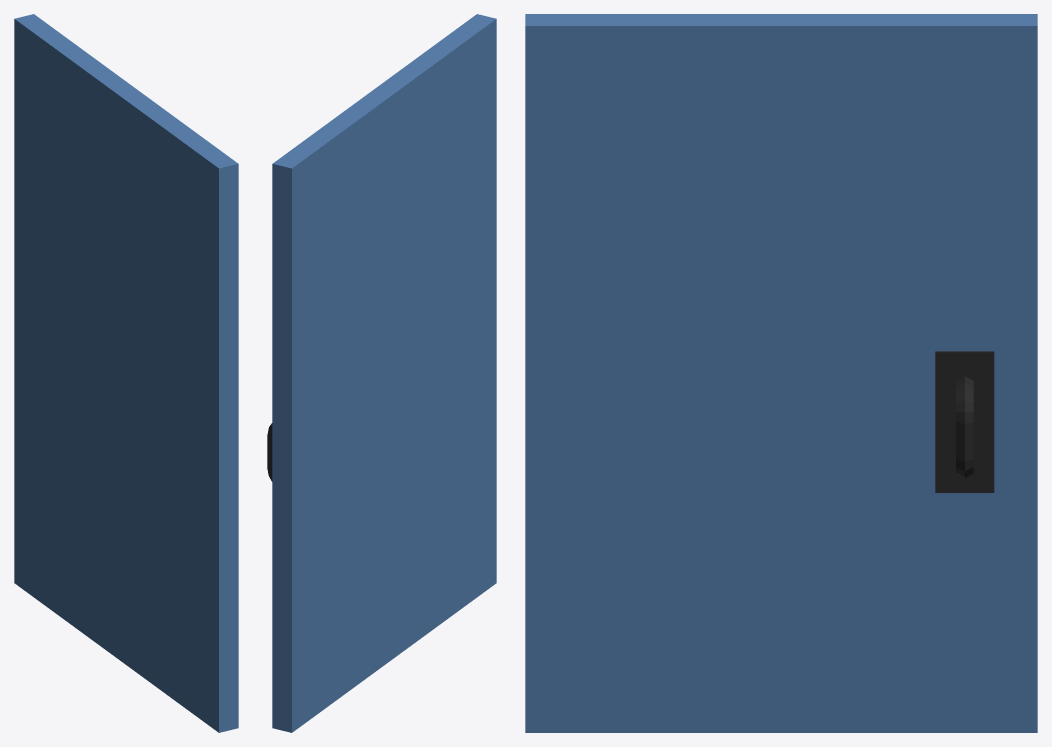
Rendered from Platform-BoulderBuildingDoor.fbx.
The picture shows the model from 3 angles, left to right: view 1: azimuth 30°, elevation 25°; view 2: azimuth 150°, elevation 25°; view 3: azimuth 270°, elevation 25°; orthographic projection. The views are drawn at different scales.
Visible parts, largest first — view 1: Platform-BoulderBuildingDoor; view 2: Platform-BoulderBuildingDoor; view 3: Platform-BoulderBuildingDoor, Platform-BoulderBuildingDoor.001.
Boxes of the visible parts, x1,y1,x2,y2 form: Platform-BoulderBuildingDoor: (14, 14, 238, 732); Platform-BoulderBuildingDoor: (272, 14, 496, 732); Platform-BoulderBuildingDoor: (525, 14, 1037, 732); Platform-BoulderBuildingDoor.001: (935, 351, 994, 492).
Size of the model in its own units: 0.2751 by 2.76 by 1.81.
Materials: 1 (1 with a texture image).
